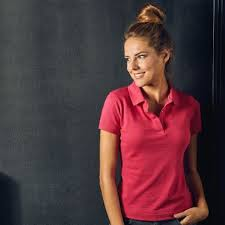S_polo shirt: (97, 81, 202, 217)
